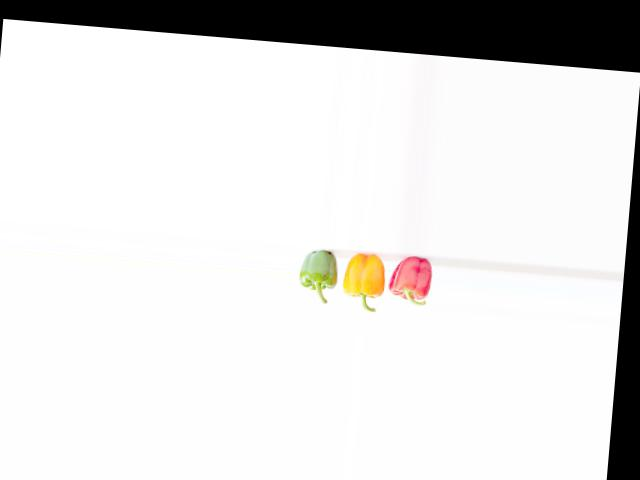bell_pepper: (385, 255, 436, 316)
